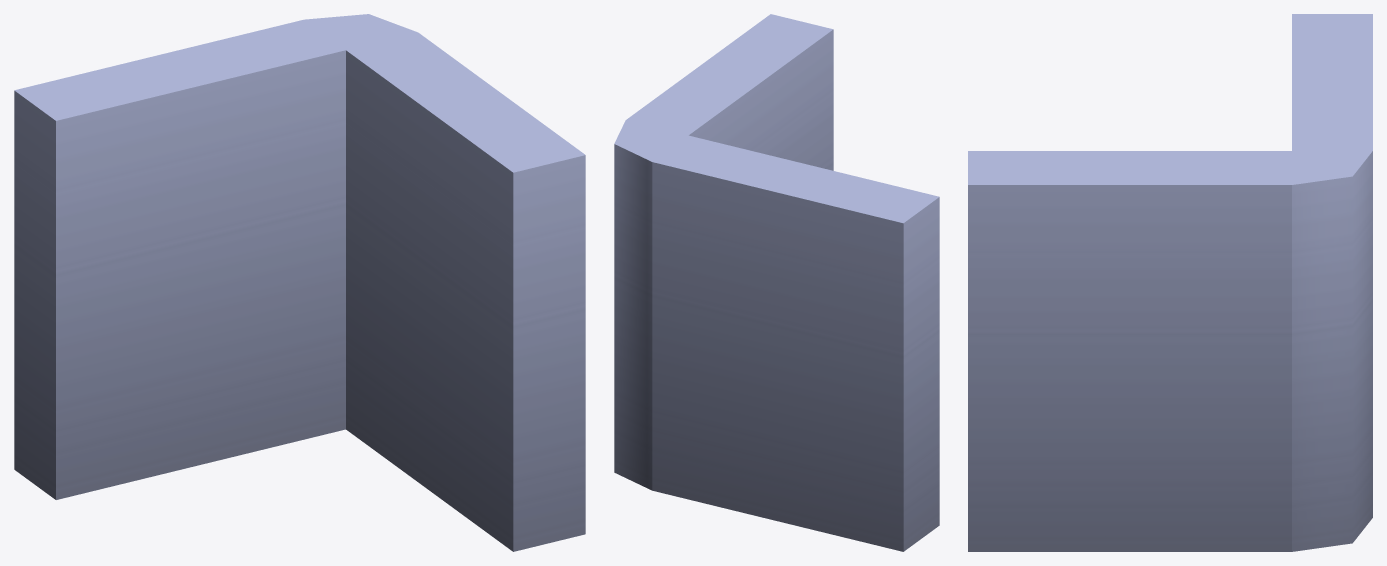
The model's file is wall-corner-rounded.fbx.
The picture shows the model from 3 angles, left to right: view 1: azimuth 30°, elevation 25°; view 2: azimuth 150°, elevation 25°; view 3: azimuth 270°, elevation 25°; orthographic projection. The views are drawn at different scales.
Parts seen in each view (by area): view 1: wall-corner-rounded; view 2: wall-corner-rounded; view 3: wall-corner-rounded.
Boxes of the visible parts, box(x1,y1,x2,y2) form: wall-corner-rounded: box(14, 14, 585, 551); wall-corner-rounded: box(614, 14, 939, 551); wall-corner-rounded: box(968, 14, 1372, 551).
Size of the model in its own units: 100 by 100 by 100.
